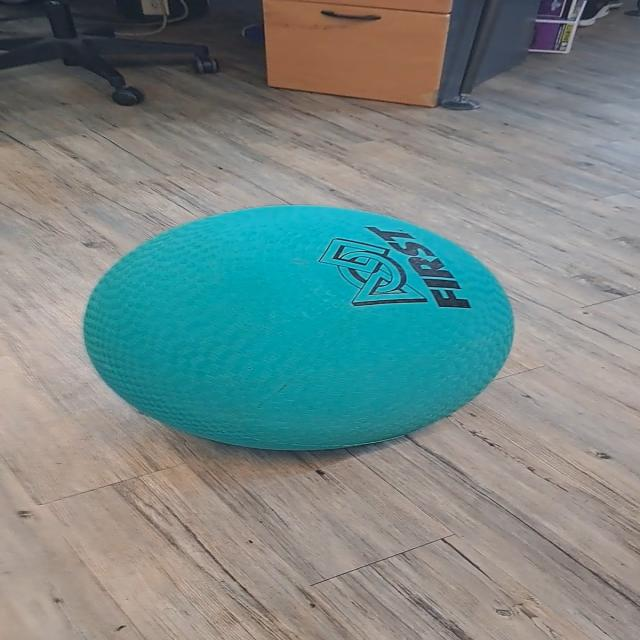ALGAE: (80, 203, 516, 452)
